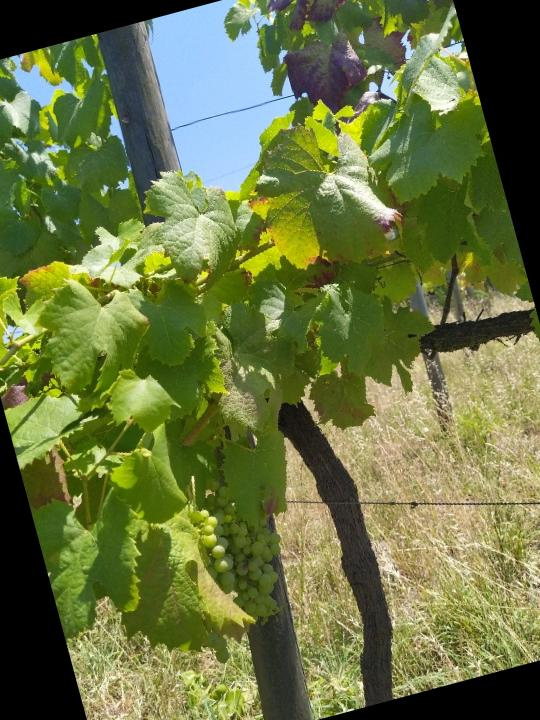grape: (184, 474, 307, 635)
